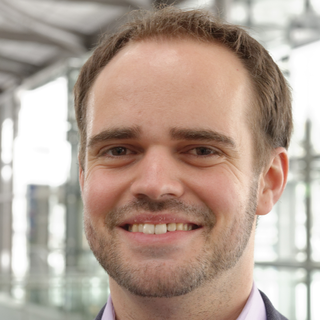eye: (176, 139, 229, 164), (93, 142, 143, 166)
